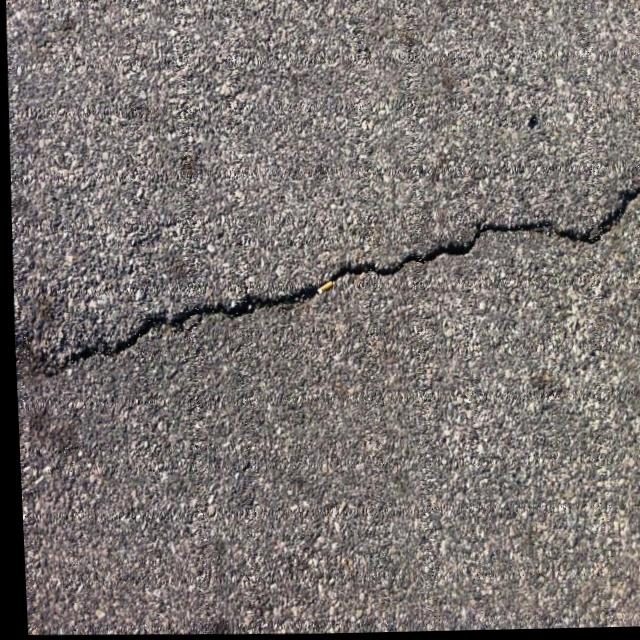Crack: (6, 159, 640, 399)
